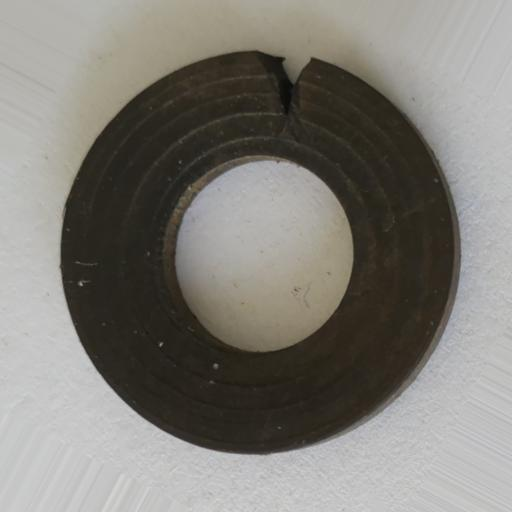defect: (252, 49, 312, 140)
